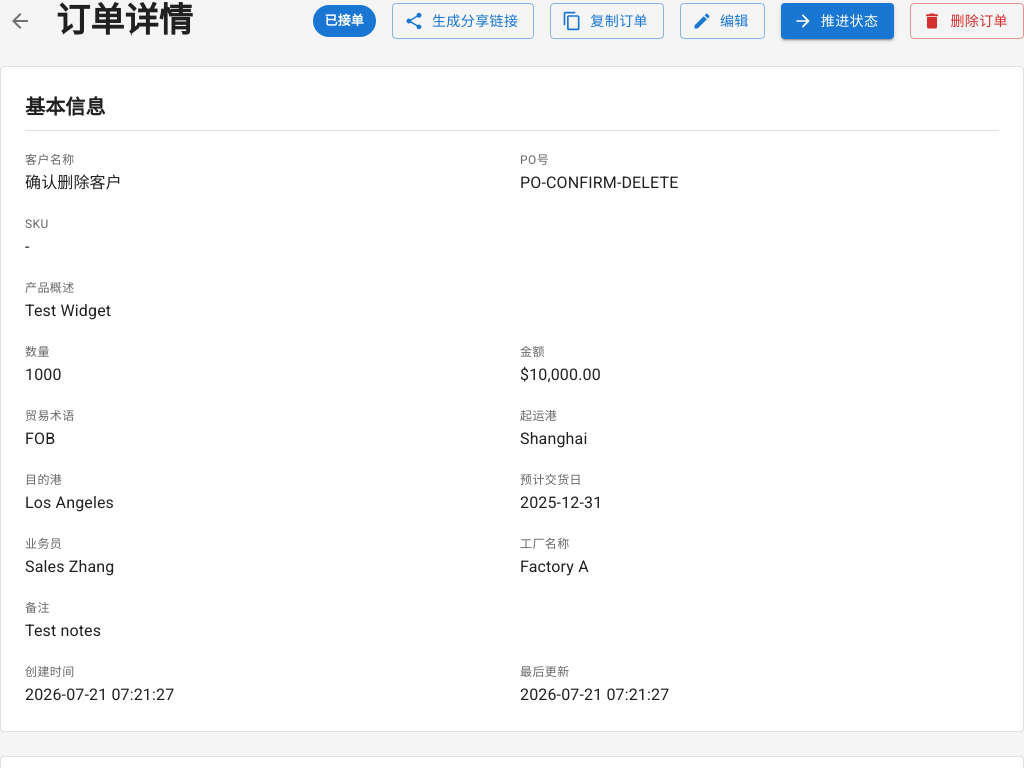
Test case: OrderDetail — 删除确认 Dialog › 确认 Dialog 有 error 级别的 Alert
The width and height of the screenshot is (1024, 768).
Click the button "删除订单" at (967, 21), box 910,3 -> 1023,39
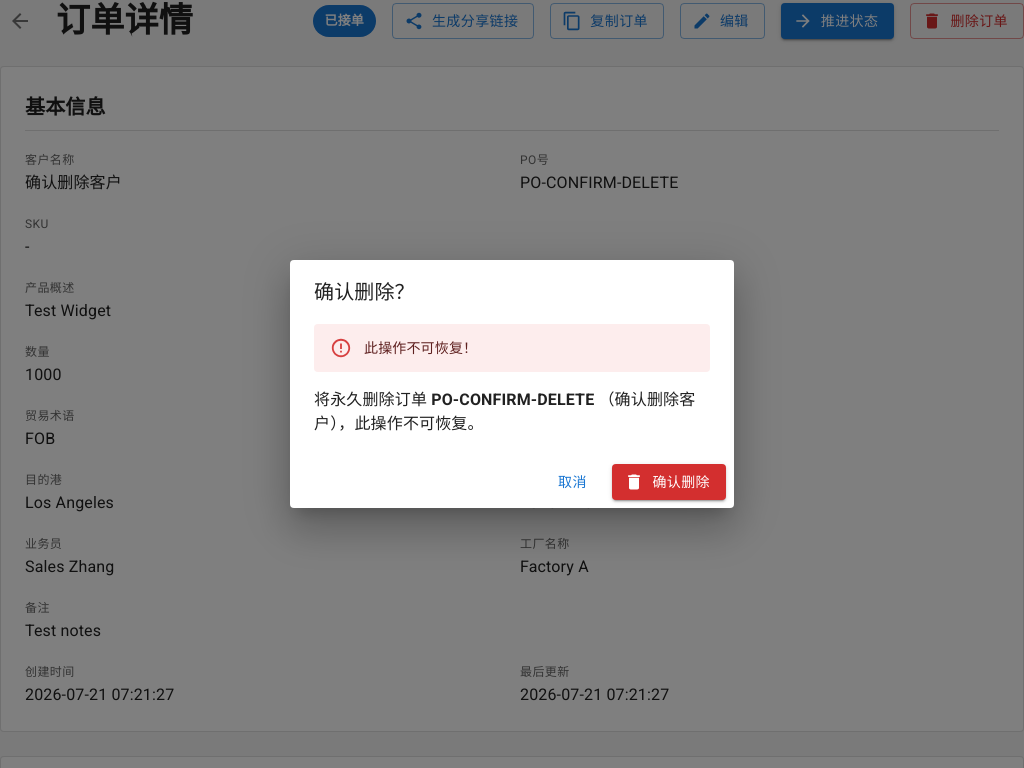
Check: the message "此操作不可恢复！" is shown, box 314,324 -> 710,372
